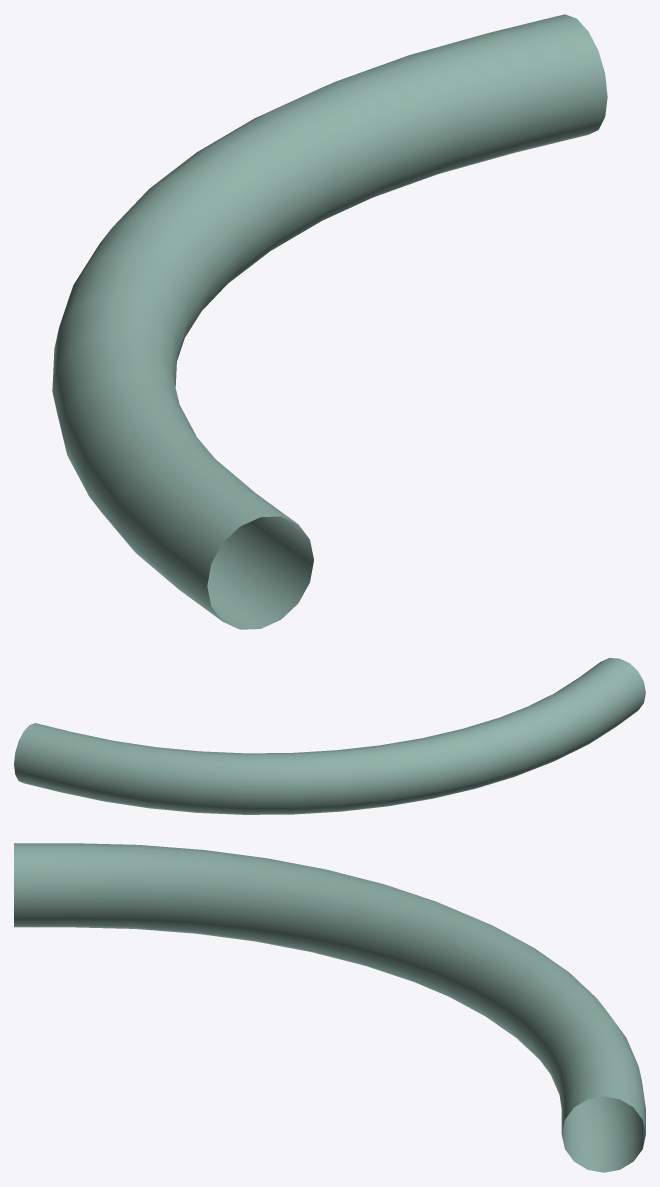
Rendered from PipeLarge_Bent_07.fbx.
3 renders of one model, top to bottom at view 1: azimuth 30°, elevation 25°; view 2: azimuth 150°, elevation 25°; view 3: azimuth 270°, elevation 25°, orthographic. The views are drawn at different scales.
Parts seen in each view (by area): view 1: PipeLarge_Bent_07.001; view 2: PipeLarge_Bent_07.001; view 3: PipeLarge_Bent_07.001.
Part boxes in pixels (x1=…): PipeLarge_Bent_07.001: x1=52, y1=14, x2=607, y2=629; PipeLarge_Bent_07.001: x1=14, y1=658, x2=645, y2=814; PipeLarge_Bent_07.001: x1=14, y1=843, x2=645, y2=1172.
Size of the model in its own units: 1.5 by 0.2 by 1.5.
